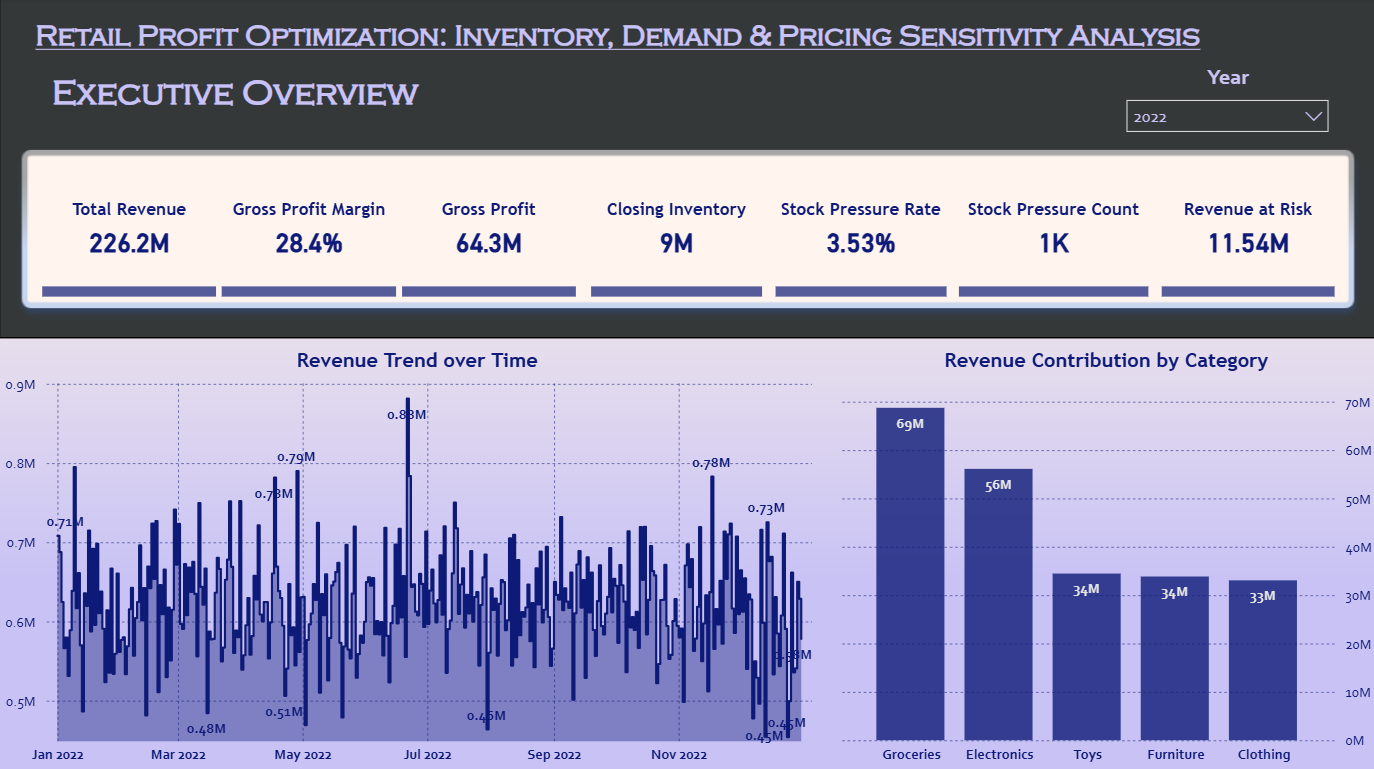

Layout of this report page (visuals, bound fields, positions):
{"tool":"powerbi","page":{"name":"Executive Overview","canvas":[1280,720],"ordinal":0},"visuals":[{"type":"slicer","title":"Year","fields":{"Values":["dim_date.year"]},"box":[1037.8,60.7,207.6,69.2],"z":0},{"type":"cardVisual","fields":{"Data":["_Measure.Total Revenue","_Measure.Gross Profit Margin","_Measure.Gross Profit"]},"box":[34.1,144.8,509.9,139.4],"z":0,"group":"g1"},{"type":"group","id":"g1","title":"Group 1","box":[34.1,144.8,1213.4,139.4],"z":1000},{"type":"cardVisual","fields":{"Data":["_Measure.Closing Inventory"]},"box":[544,144.8,171.4,139.4],"z":1000,"group":"g1"},{"type":"cardVisual","fields":{"Data":["_Measure.Stock Pressure Rate"]},"box":[715.3,144.8,171.4,139.4],"z":2000,"group":"g1"},{"type":"group","id":"g2","title":"Group 2","box":[0,325.7,1280.5,394.9],"z":2000},{"type":"lineChart","title":"Revenue Trend over Time","fields":{"Y":["_Measure.Total Revenue"],"Category":["dim_date.date"]},"box":[0,325.7,777,394.9],"z":3000,"group":"g2"},{"type":"clusteredColumnChart","title":"Revenue Contribution by Category","fields":{"Category":["dim_product.category"],"Y":["_Measure.Total Revenue"]},"box":[777,325.7,503.5,394.9],"z":4000,"group":"g2"},{"type":"cardVisual","fields":{"Data":["_Measure.Stock Pressure Count"]},"box":[885.6,144.8,188.4,139.4],"z":6000,"group":"g1"},{"type":"cardVisual","fields":{"Data":["_Measure.Revenue at Risk"]},"box":[1074,144.8,173.5,139.4],"z":7000,"group":"g1"}]}

Visuals, with their boxes in screenshot pixels (x1, y1, x2, y2), scaled from the page's 1280x720 canvas onto the 1374x769 screenshot:
"Year" slicer: <region>1114, 65, 1337, 139</region>
cardVisual - _Measure.Total Revenue x _Measure.Gross Profit Margin: <region>37, 155, 584, 304</region>
"Group 1" group: <region>37, 155, 1339, 304</region>
cardVisual - _Measure.Closing Inventory: <region>584, 155, 768, 304</region>
cardVisual - _Measure.Stock Pressure Rate: <region>768, 155, 952, 304</region>
"Group 2" group: <region>0, 348, 1373, 768</region>
"Revenue Trend over Time" lineChart: <region>0, 348, 834, 768</region>
"Revenue Contribution by Category" clusteredColumnChart: <region>834, 348, 1373, 768</region>
cardVisual - _Measure.Stock Pressure Count: <region>951, 155, 1153, 304</region>
cardVisual - _Measure.Revenue at Risk: <region>1153, 155, 1339, 304</region>
